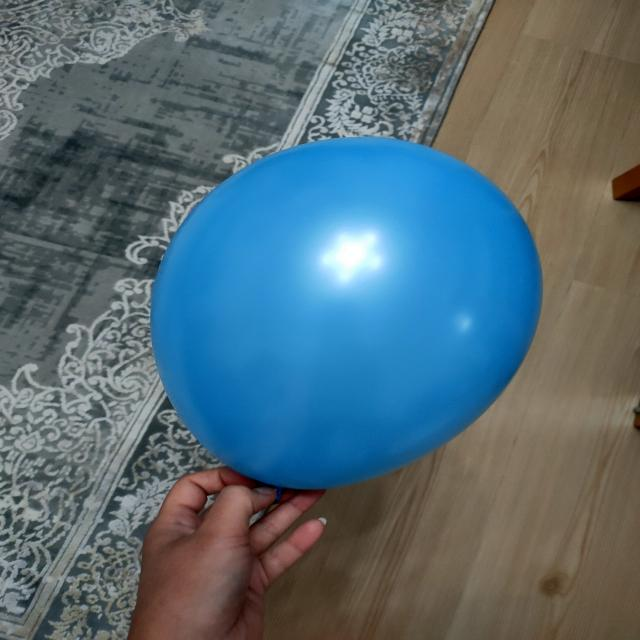blue: (154, 139, 545, 492)
